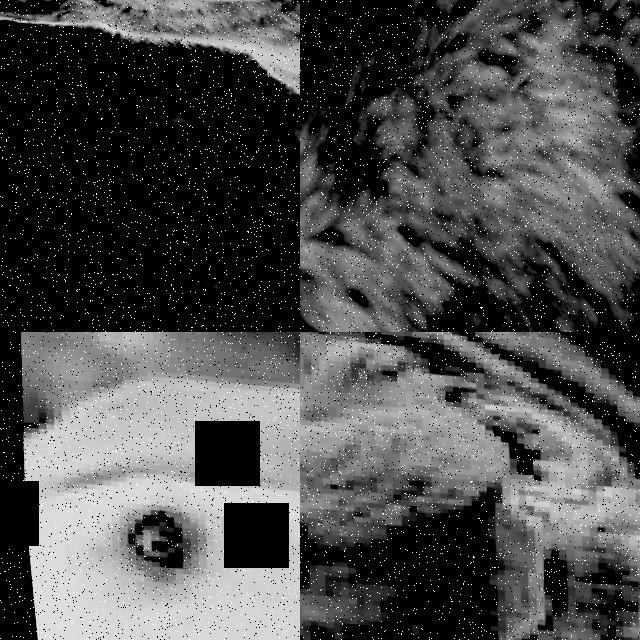dog: (300, 332, 640, 640), (0, 332, 300, 640)
wolf: (300, 0, 640, 332), (0, 0, 300, 230)
